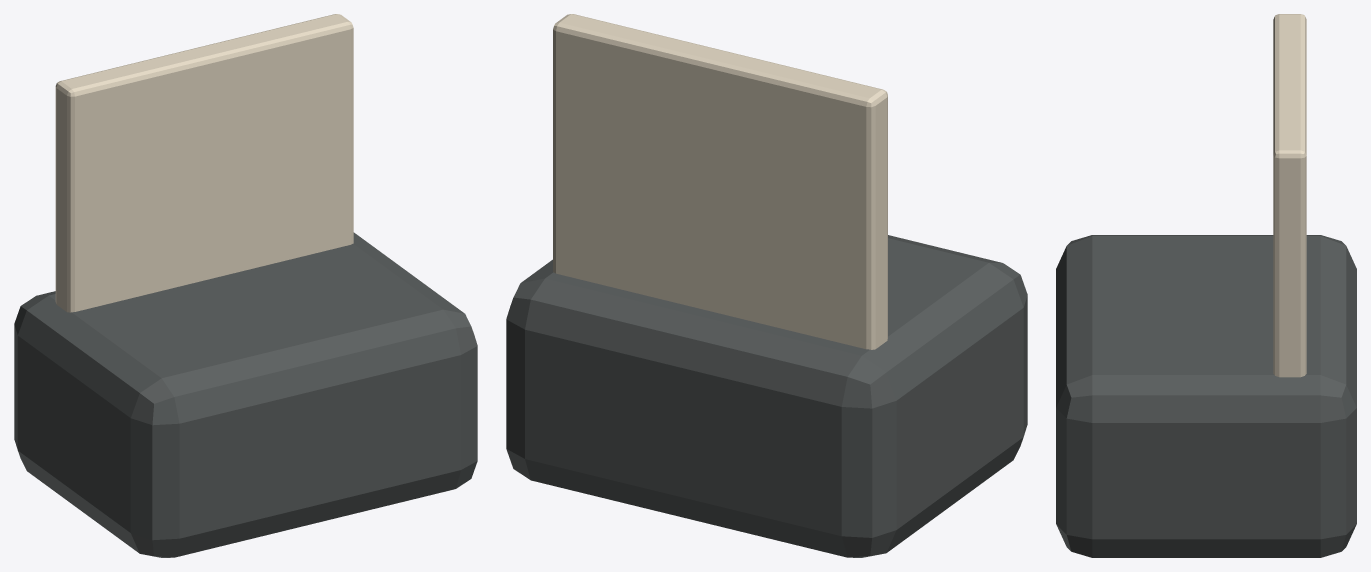
Rendered from Typewriter_01.fbx.
3 views of the same model, side by side, from view 1: azimuth 30°, elevation 25°; view 2: azimuth 150°, elevation 25°; view 3: azimuth 270°, elevation 25° (orthographic). The views are drawn at different scales.
Parts seen in each view (by area): view 1: Body.002, Paper; view 2: Body.002, Paper; view 3: Body.002, Paper.
Boxes of the visible parts, x1,y1,x2,y2 form: Body.002: (14,232,477,557); Paper: (55,14,353,312); Body.002: (506,235,1027,557); Paper: (553,14,887,349); Body.002: (1056,235,1356,557); Paper: (1273,14,1306,377).
Size of the model in its own units: 0.48 by 0.535 by 0.36.
